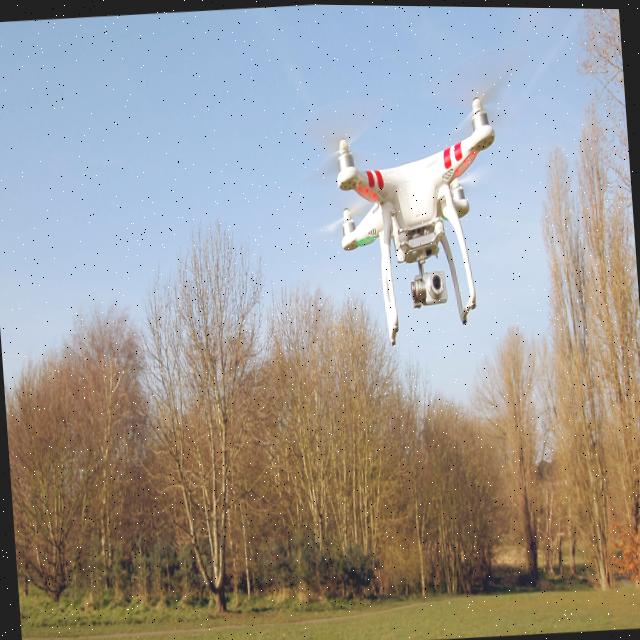drone: (327, 86, 512, 352)
